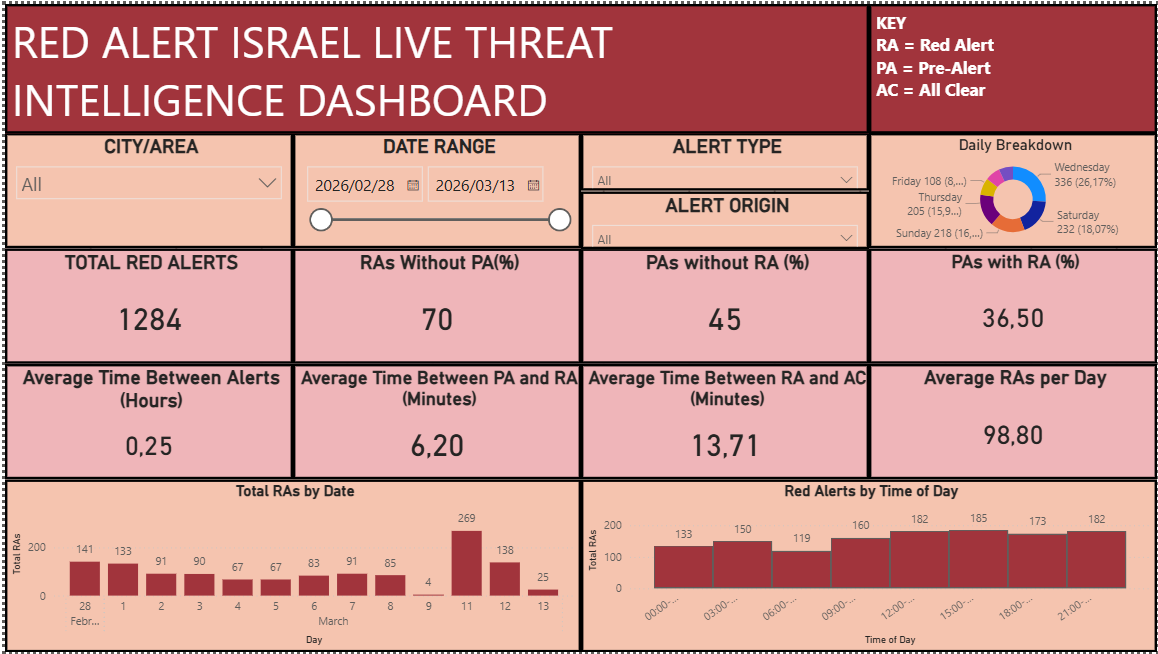

Layout of this report page (visuals, bound fields, positions):
{"tool":"powerbi","page":{"name":"Red Alert Dashboard","canvas":[1280,720],"ordinal":0},"visuals":[{"type":"slicer","fields":{"Values":["redalert_data_enriched.city_english"]},"box":[0,144,320,128],"z":0},{"type":"slicer","fields":{"Values":["redalert_data_enriched.date"]},"box":[320,144,320,128],"z":1000},{"type":"slicer","fields":{"Values":["redalert_data_enriched.type_label"]},"box":[640,144,320,128],"z":2000},{"type":"textbox","box":[0,0,1280,144],"z":3000},{"type":"textbox","box":[960,144,320,128],"z":4000},{"type":"card","title":"TOTAL RED ALERTS","fields":{"Values":["redalert_data_enriched.Total RAs"]},"box":[0,272,256,128],"z":5000},{"type":"card","title":"RAs Without PA(%)","fields":{"Values":["redalert_data_enriched.% RA without PA"]},"box":[256,272,256,128],"z":6000},{"type":"card","title":"PAs without RA (%)","fields":{"Values":["redalert_data_enriched.% PA without RA"]},"box":[504,264,264,144],"z":6001},{"type":"card","title":"Average Time Between PA and RA (Minutes)","fields":{"Values":["redalert_data_enriched.Avg PA to RA (min)"]},"box":[768,272,256,128],"z":6002},{"type":"card","title":"Average Time Between RA and AC (Minutes)","fields":{"Values":["redalert_data_enriched.Avg RA to AC (min)"]},"box":[1024,272,256,128],"z":6003},{"type":"columnChart","title":"Total RAs by Date","fields":{"Y":["redalert_data_enriched.Total RAs"],"Category":["redalert_data_enriched.date.Variation.Date Hierarchy.Month","redalert_data_enriched.date.Variation.Date Hierarchy.Day"]},"box":[720,408,552,168],"z":6005},{"type":"donutChart","fields":{"Category":["redalert_data_enriched.origin"],"Y":["redalert_data_enriched.Total RAs"]},"box":[0,400,256,144],"z":6007},{"type":"clusteredColumnChart","title":"Red Alerts by Time of Day","fields":{"Category":["HourBuckets.hour_label"],"Y":["HourBuckets.RAs by Hour Bucket"]},"box":[720,576,552,144],"z":6008},{"type":"donutChart","title":"Daily Breakdown","fields":{"Category":["redalert_data_enriched.day_of_week"],"Y":["redalert_data_enriched.Total RAs"]},"box":[0,528,336,192],"z":6009}]}

Visuals, with their boxes in screenshot pixels (x1, y1, x2, y2), scaled from the page's 1280x720 canvas onto the 1158x654 screenshot:
slicer - redalert_data_enriched.city_english: <region>0, 131, 290, 247</region>
slicer - redalert_data_enriched.date: <region>290, 131, 579, 247</region>
slicer - redalert_data_enriched.type_label: <region>579, 131, 868, 247</region>
textbox: <region>0, 0, 1157, 131</region>
textbox: <region>868, 131, 1157, 247</region>
"TOTAL RED ALERTS" card: <region>0, 247, 232, 363</region>
"RAs Without PA(%)" card: <region>232, 247, 463, 363</region>
"PAs without RA (%)" card: <region>456, 240, 695, 371</region>
"Average Time Between PA and RA (Minutes)" card: <region>695, 247, 926, 363</region>
"Average Time Between RA and AC (Minutes)" card: <region>926, 247, 1157, 363</region>
"Total RAs by Date" columnChart: <region>651, 371, 1151, 523</region>
donutChart - redalert_data_enriched.origin x redalert_data_enriched.Total RAs: <region>0, 363, 232, 494</region>
"Red Alerts by Time of Day" clusteredColumnChart: <region>651, 523, 1151, 653</region>
"Daily Breakdown" donutChart: <region>0, 480, 304, 653</region>
